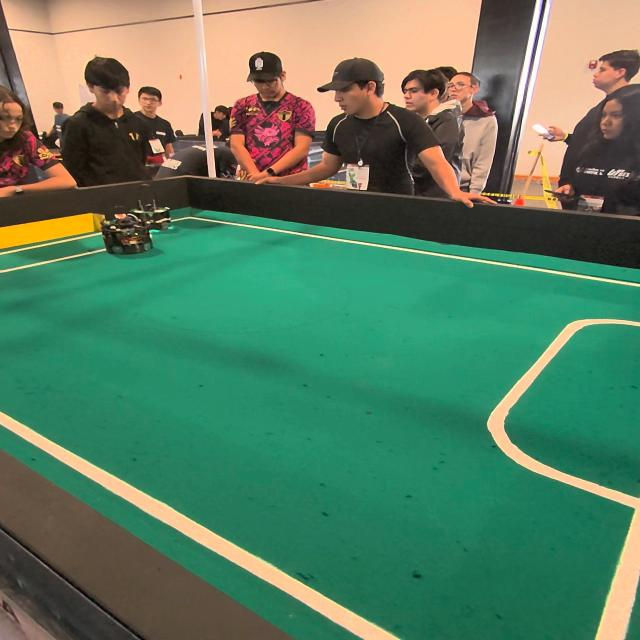Robot: (103, 200, 157, 260)
